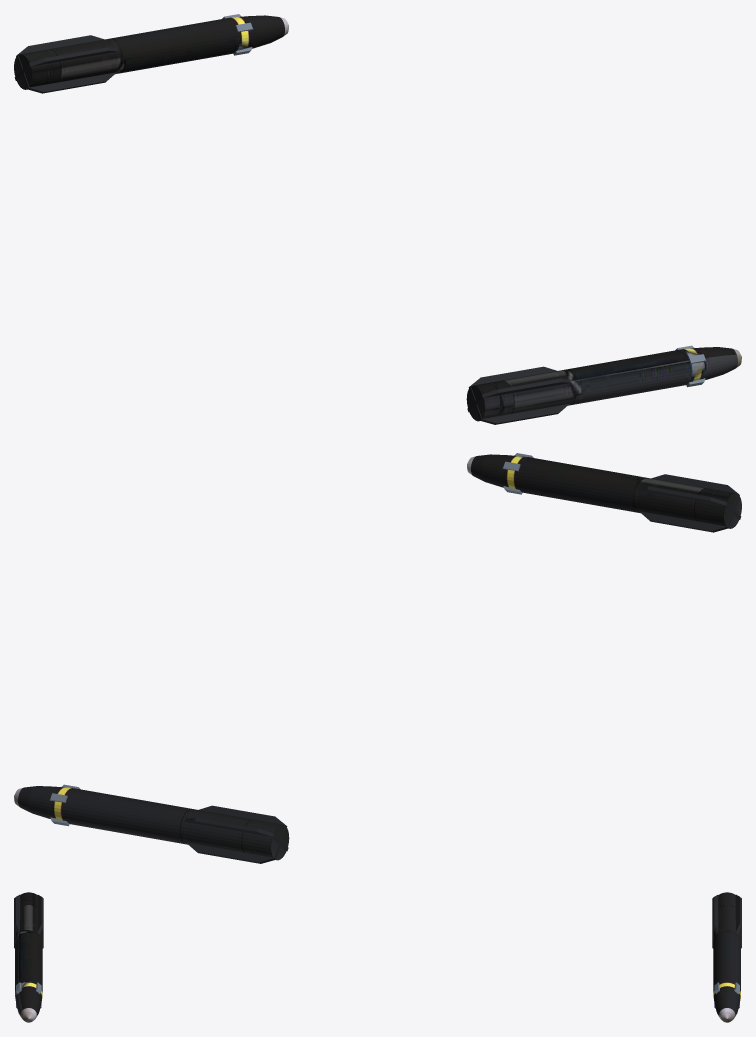
File: ac182agm11434.glb
3 views of the same model, one above another, from view 1: azimuth 30°, elevation 25°; view 2: azimuth 150°, elevation 25°; view 3: azimuth 270°, elevation 25° (orthographic). The views are drawn at different scales.
Visible parts, largest first — view 1: 円柱.006, 円柱.009; view 2: 円柱.006, 円柱.009; view 3: 円柱.006, 円柱.009.
Boxes of the visible parts, bbox=[...] form: 円柱.006: bbox=[14, 14, 288, 93]; 円柱.009: bbox=[466, 345, 741, 424]; 円柱.006: bbox=[14, 784, 289, 863]; 円柱.009: bbox=[467, 453, 741, 532]; 円柱.006: bbox=[712, 892, 741, 1022]; 円柱.009: bbox=[14, 892, 43, 1022].
Size of the model in its own units: 1.93 by 0.3279 by 5.89.
3 materials, 1 textured.
